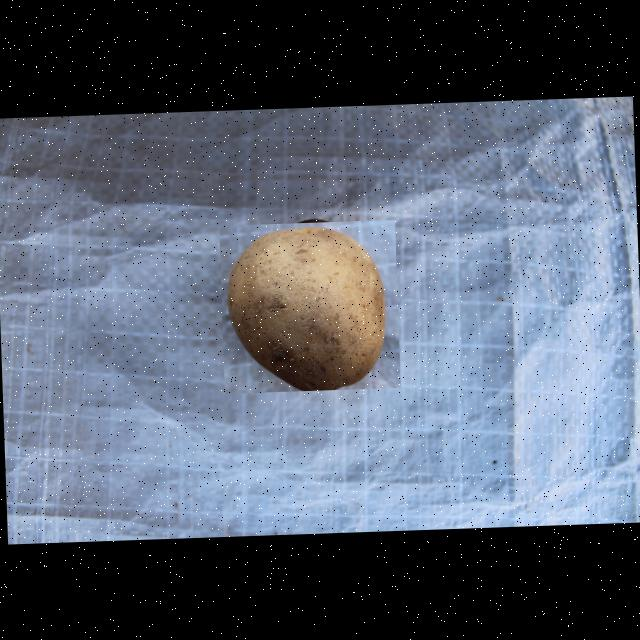Diseased-fungal potato: (218, 220, 400, 393)
